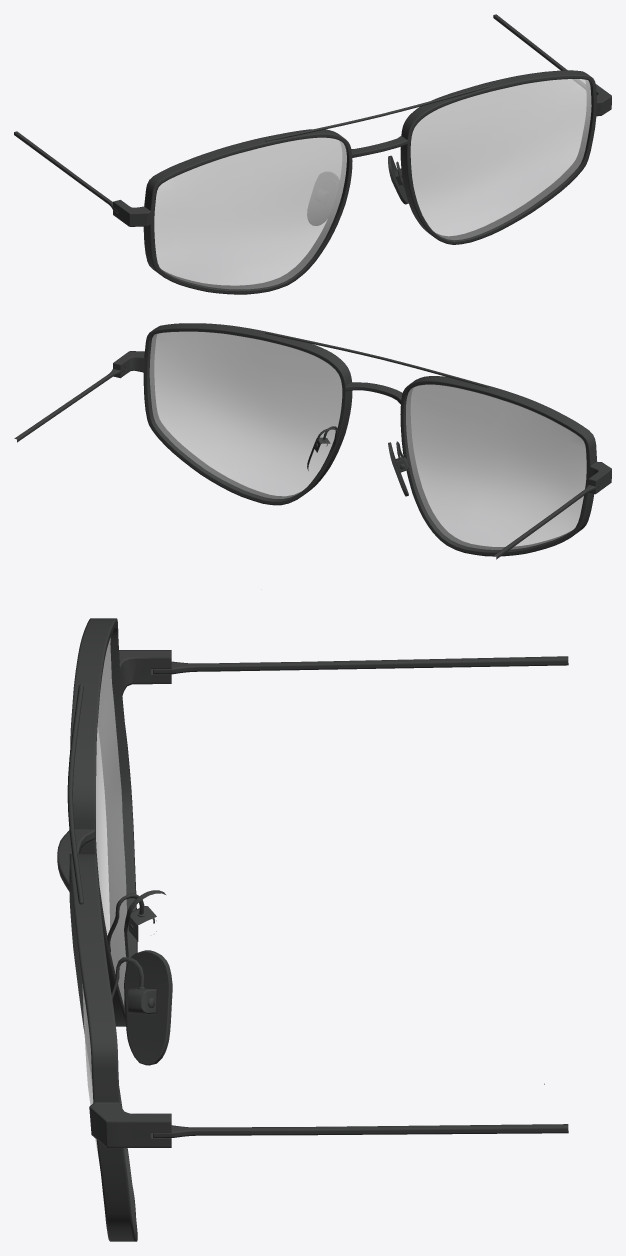
Rendered from SM_Bytes_test0.glb.
3 renders of one model, top to bottom at view 1: azimuth 30°, elevation 25°; view 2: azimuth 150°, elevation 25°; view 3: azimuth 270°, elevation 25°, orthographic. The views are drawn at different scales.
Visible parts, largest first — view 1: frame, temple_left, temple_right; view 2: frame, temple_right, temple_left; view 3: frame, temple_right, temple_left.
Part boxes in pixels (left/top/right/bottom): frame: left=113, top=70, right=611, bottom=294; temple_left: left=14, top=131, right=117, bottom=213; temple_right: left=493, top=14, right=585, bottom=89; frame: left=113, top=323, right=611, bottom=556; temple_right: left=14, top=368, right=124, bottom=442; temple_left: left=494, top=483, right=600, bottom=559; frame: left=57, top=618, right=172, bottom=1241; temple_right: left=153, top=1124, right=568, bottom=1137; temple_left: left=153, top=656, right=568, bottom=674.
Bounding box in the file's own units: 0.1441 × 0.0455 × 0.0661.
Materials: 2 (2 with a texture image).
